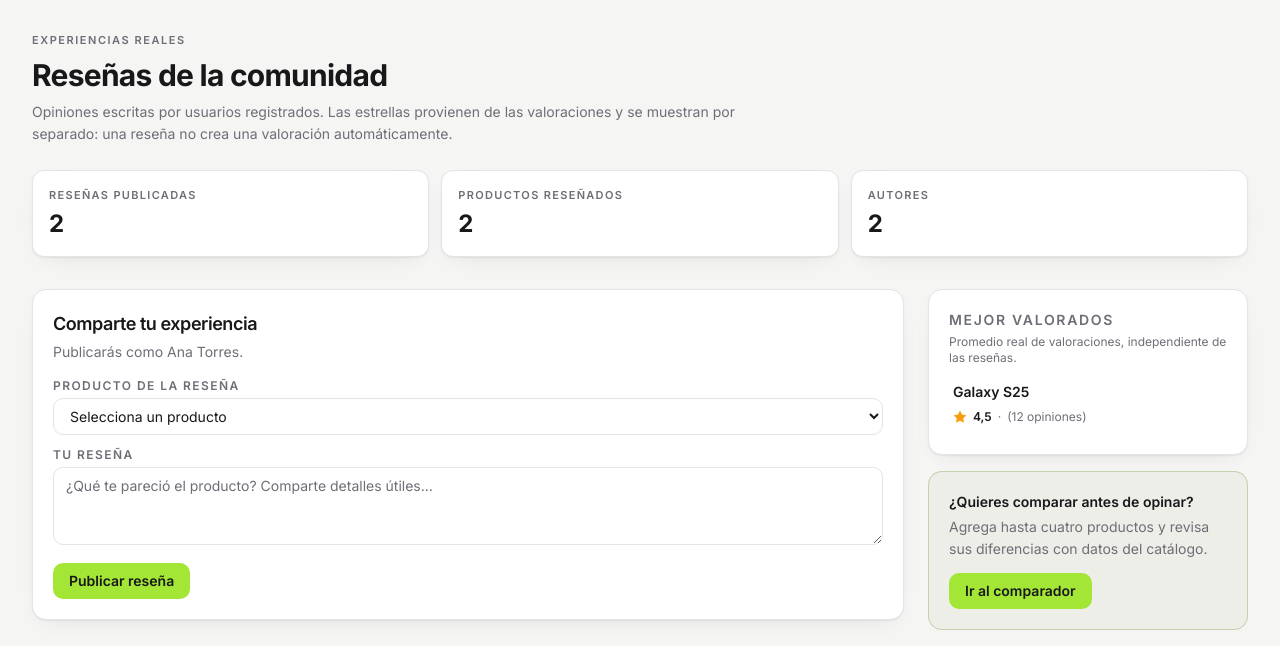
Test: ResenasCliente › avisa preventivamente cuando el comentario contiene términos bloqueados
Type "no simplemente hace esto es un timo" into the text box labelled "Tu reseña" at [468, 506], box [53,466,883,544]
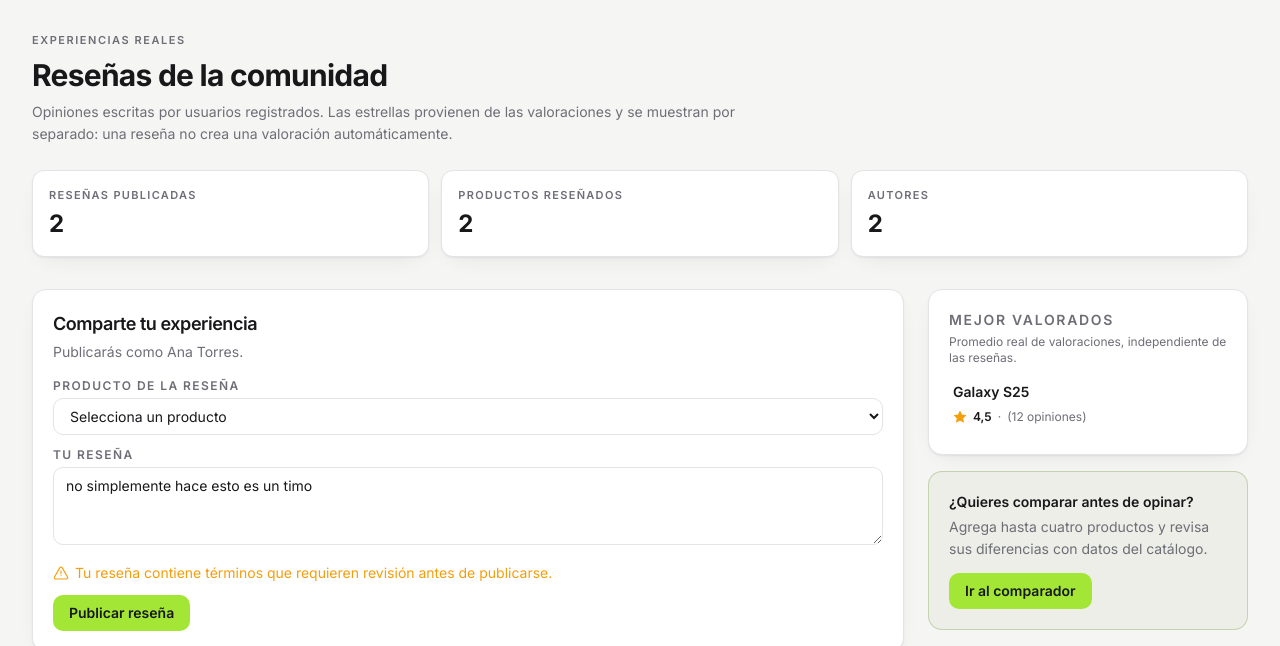
Result: the message reads "Tu reseña contiene términos que requieren revisión antes de publicarse." at [75,564,552,580]
